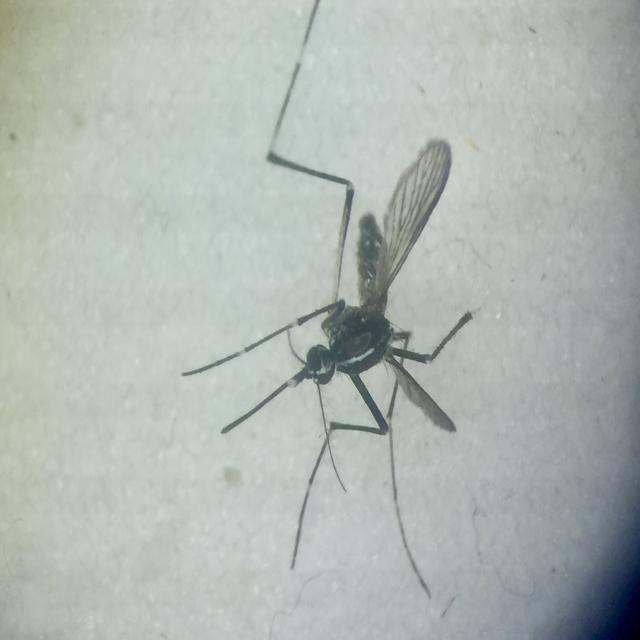albopictus: (174, 17, 510, 622)
